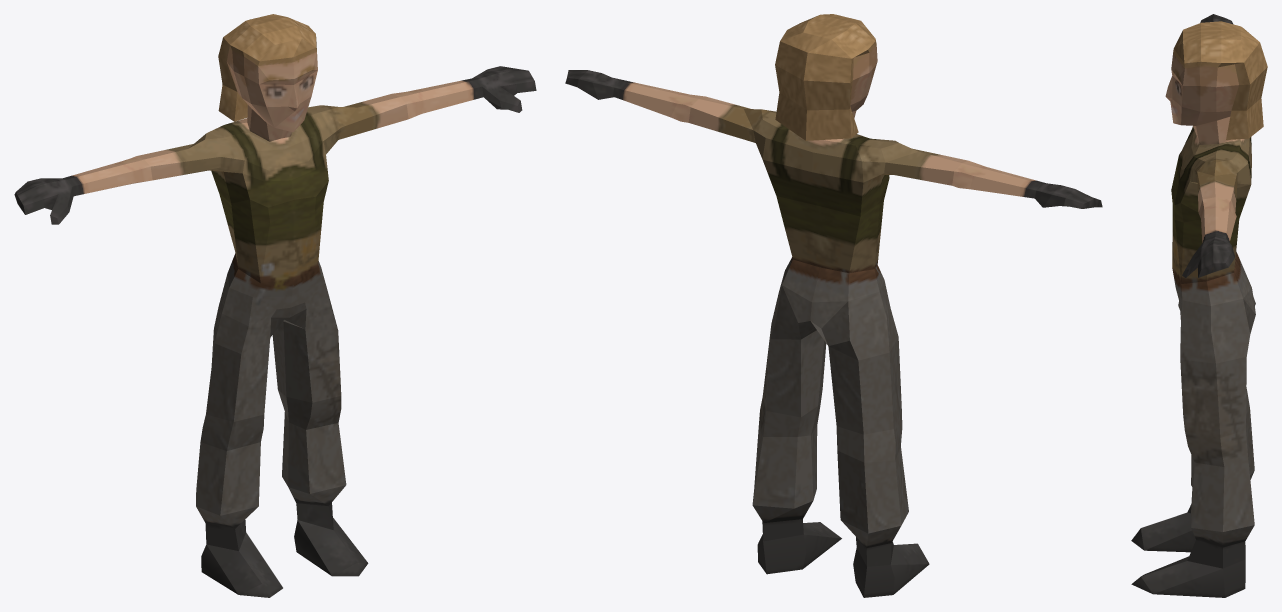
File: SK_ShopKeeper.fbx
The picture shows the model from 3 angles, left to right: view 1: azimuth 30°, elevation 25°; view 2: azimuth 150°, elevation 25°; view 3: azimuth 270°, elevation 25°; orthographic projection. The views are drawn at different scales.
Parts seen in each view (by area): view 1: SK_ShopKeeper; view 2: SK_ShopKeeper; view 3: SK_ShopKeeper.
Boxes of the visible parts, x1,y1,x2,y2 form: SK_ShopKeeper: [14, 14, 536, 597]; SK_ShopKeeper: [565, 14, 1102, 597]; SK_ShopKeeper: [1131, 14, 1267, 597].
Size of the model in its own units: 0.4299 by 0.4304 by 0.0994.
Materials: 1 (1 with a texture image).
